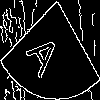A: (25, 24, 67, 81)
